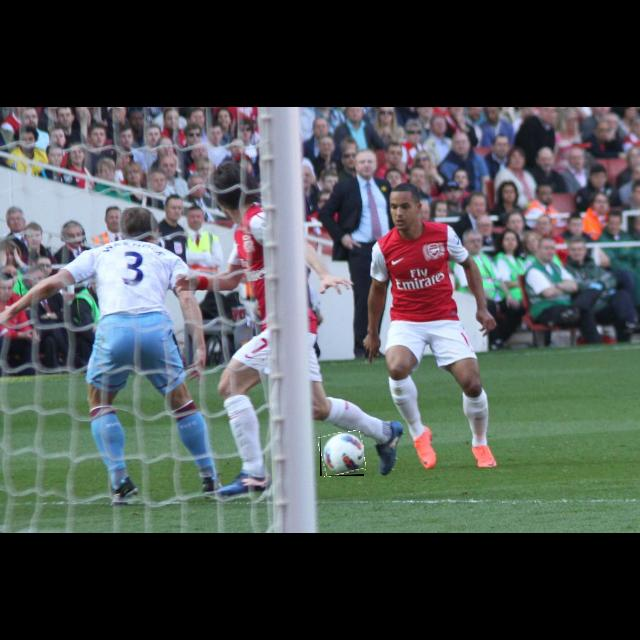Football: (320, 432, 364, 476)
